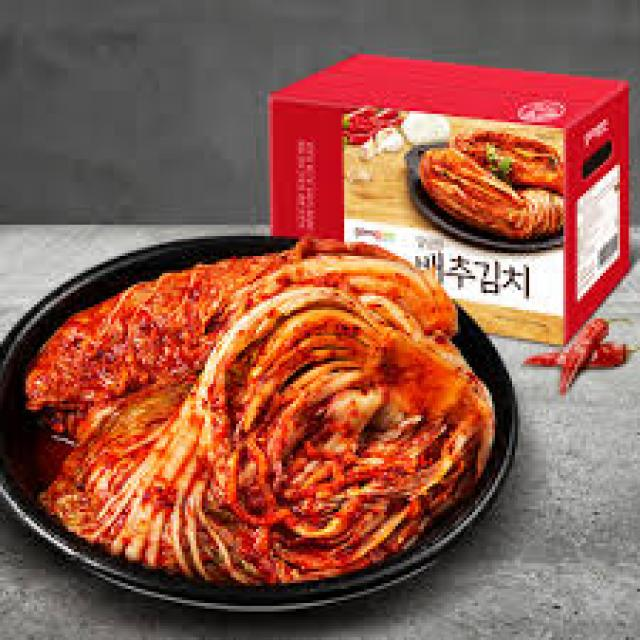kimchi: (188, 287, 421, 518)
